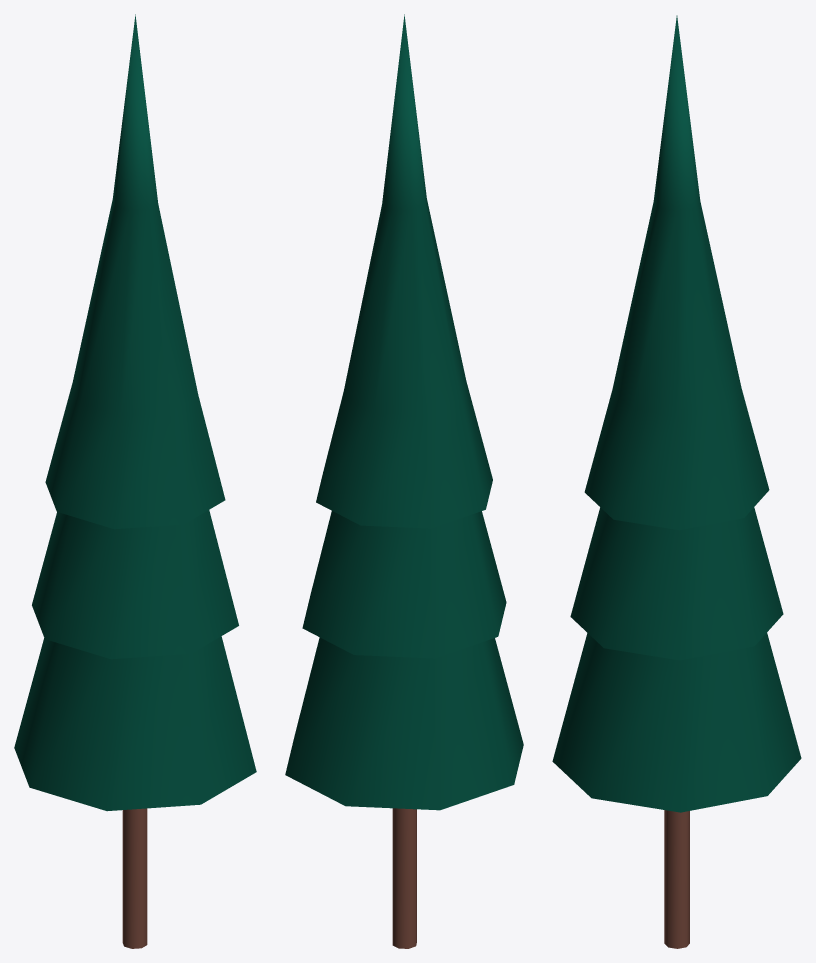
The model's file is firtree_4_2_world_ap_0_lev1.glb.
3 views of the same model, side by side, from view 1: azimuth 30°, elevation 25°; view 2: azimuth 150°, elevation 25°; view 3: azimuth 270°, elevation 25° (orthographic).
Visible parts, largest first — view 1: firtree_4_2_world_ap_0_lev1; view 2: firtree_4_2_world_ap_0_lev1; view 3: firtree_4_2_world_ap_0_lev1.
Part boxes in pixels (x1,y1,x2,y2): firtree_4_2_world_ap_0_lev1: (14,14,256,948); firtree_4_2_world_ap_0_lev1: (285,14,523,948); firtree_4_2_world_ap_0_lev1: (552,15,801,948).
Bounding box in the file's own units: 0.7319 × 3.01 × 0.7319.
1 material, 1 textured.
